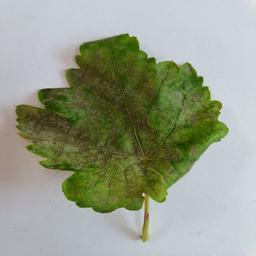Powdery-Mildew: (162, 65, 206, 124), (47, 119, 107, 162), (76, 54, 116, 113), (110, 163, 151, 202), (85, 178, 109, 208), (24, 116, 44, 142)
